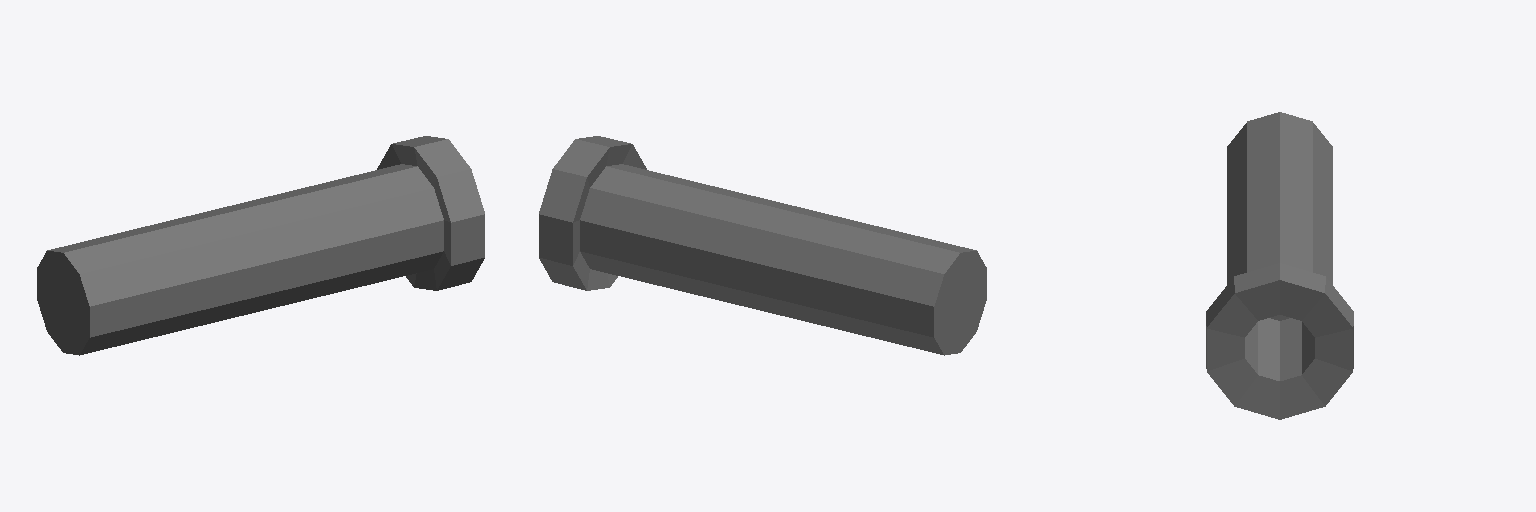
The model's file is pipewater.obj.
The picture shows the model from 3 angles: view 1: azimuth 30°, elevation 25°; view 2: azimuth 150°, elevation 25°; view 3: azimuth 270°, elevation 25°; orthographic projection.
Visible parts, largest first — view 1: pipe:pCylinder1; view 2: pipe:pCylinder1; view 3: pipe:pCylinder1.
Boxes of the visible parts, <box> form: pipe:pCylinder1: <box>37,136,484,355</box>; pipe:pCylinder1: <box>539,136,986,355</box>; pipe:pCylinder1: <box>1206,112,1353,419</box>.
Bounding box in the file's own units: 8.04 × 2.8 × 2.67.